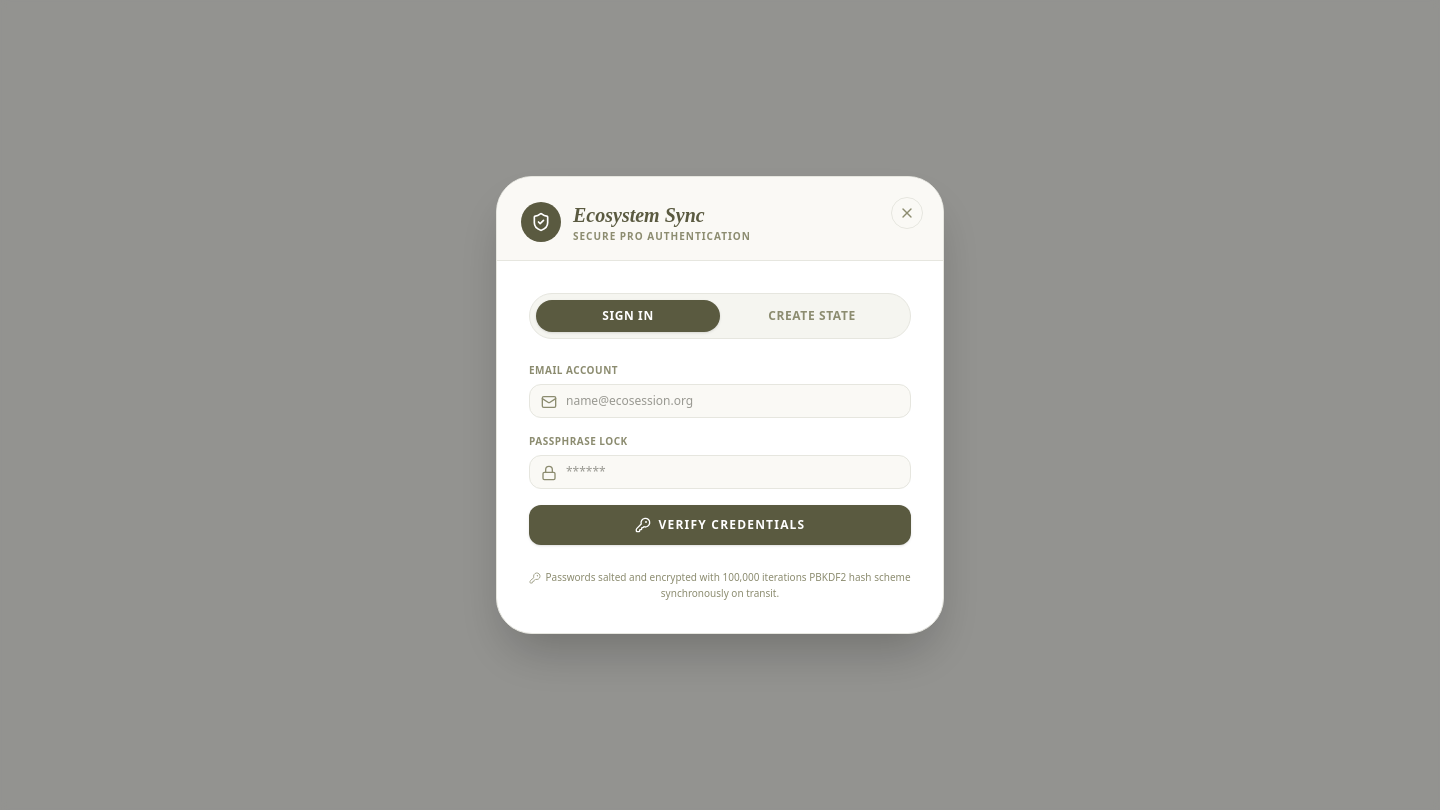
AuthModal Component › renders authentication elements, toggles tabs, and verifies password score displays
Check: the heading "Ecosystem Sync" is shown, box [573, 204, 705, 226]
Check: the button "Verify Credentials" is shown, box [529, 505, 911, 545]
# Toggle register tab
Click the button "Create State": (812, 316) [720, 300, 904, 332]
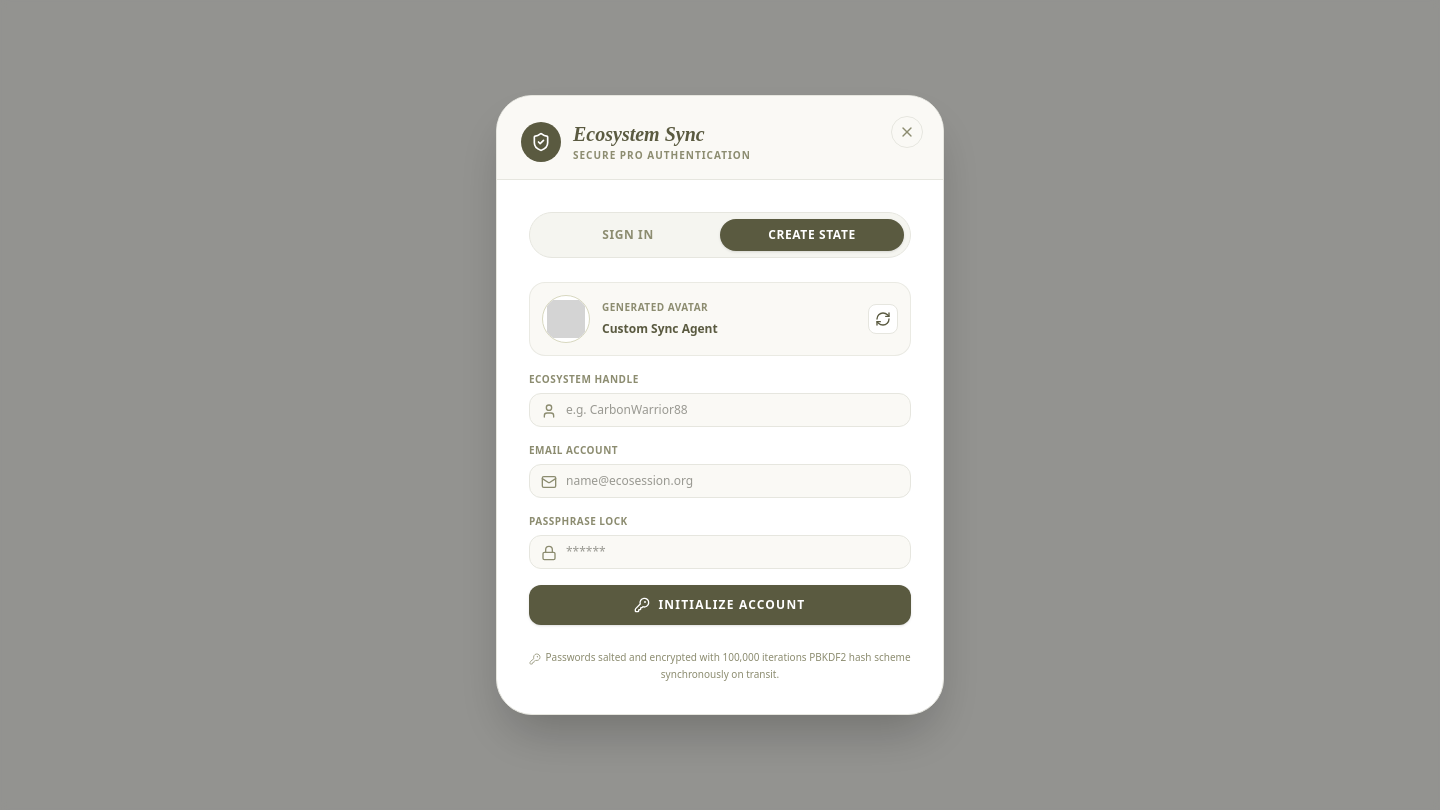
Check: the text "Ecosystem Handle" is shown, box [529, 372, 639, 386]
